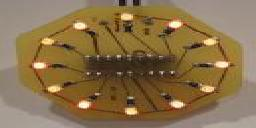LED: (164, 97, 189, 111), (119, 10, 137, 28), (123, 104, 142, 121), (75, 98, 94, 114), (31, 57, 50, 73), (204, 37, 218, 54), (72, 21, 87, 35), (202, 84, 219, 96), (40, 37, 60, 47), (214, 58, 229, 71), (168, 19, 182, 32), (45, 84, 64, 93)
